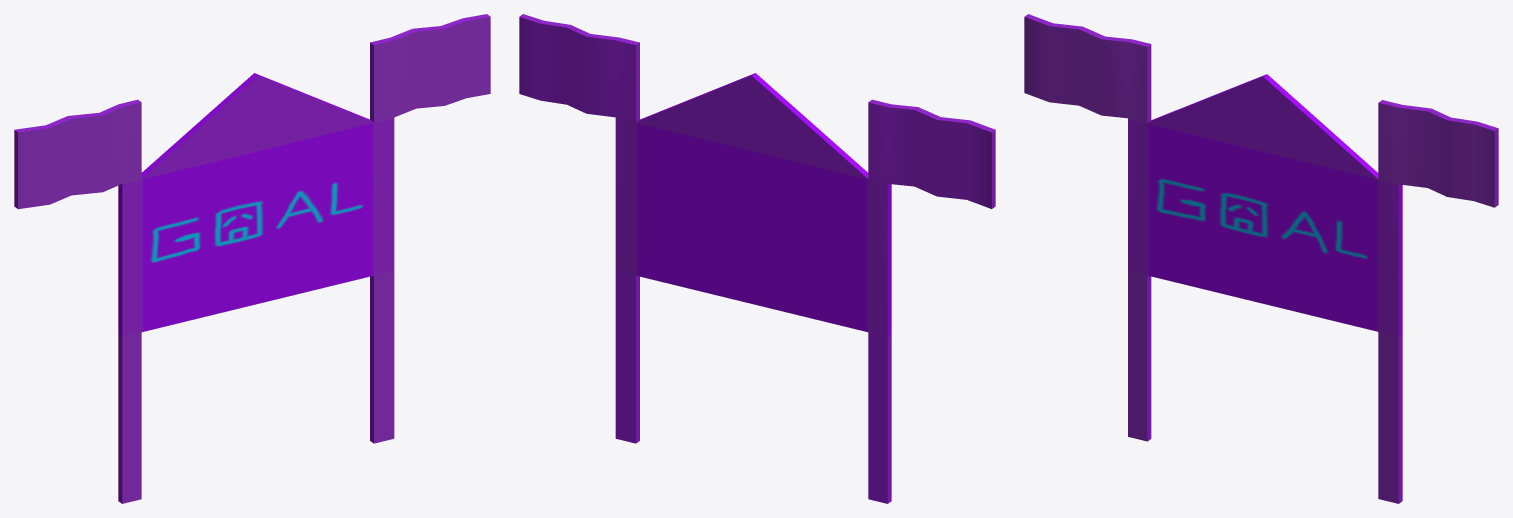
Rendered from goal sign.fbx.
3 views of the same model, side by side, from view 1: azimuth 30°, elevation 25°; view 2: azimuth 150°, elevation 25°; view 3: azimuth 330°, elevation 25° (orthographic).
Visible parts, largest first — view 1: pCube1; view 2: pCube1; view 3: pCube1.
Part boxes in pixels (left/top/right/bottom): pCube1: left=14, top=14, right=490, bottom=503; pCube1: left=519, top=14, right=995, bottom=503; pCube1: left=1024, top=14, right=1498, bottom=503.
Size of the model in its own units: 40.39 by 32.52 by 1.66.
